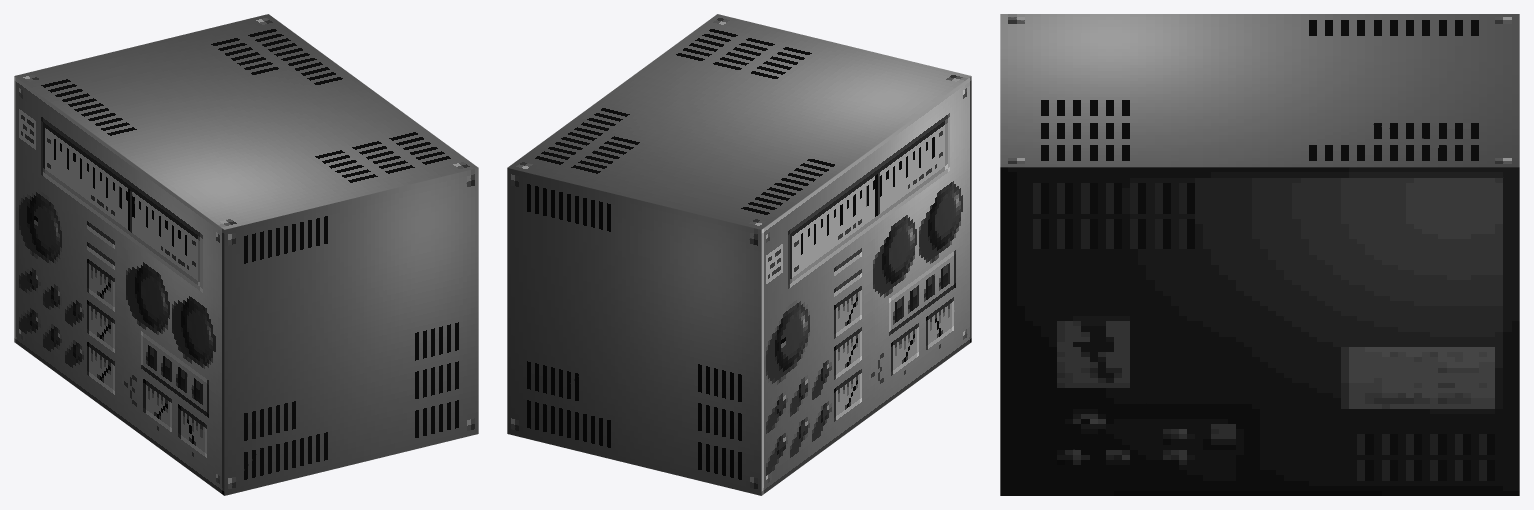
Rendered from primary_191.glb.
The picture shows the model from 3 angles, left to right: view 1: azimuth 30°, elevation 25°; view 2: azimuth 150°, elevation 25°; view 3: azimuth 270°, elevation 25°; orthographic projection. The views are drawn at different scales.
Parts seen in each view (by area): view 1: Object; view 2: Object; view 3: Object.
Part boxes in pixels (x1,y1,x2,y2): Object: (14, 14, 478, 495); Object: (507, 14, 971, 495); Object: (1000, 14, 1519, 495).
Size of the model in its own units: 0.3981 by 0.3981 by 0.57.
Materials: 6 (6 with a texture image).
